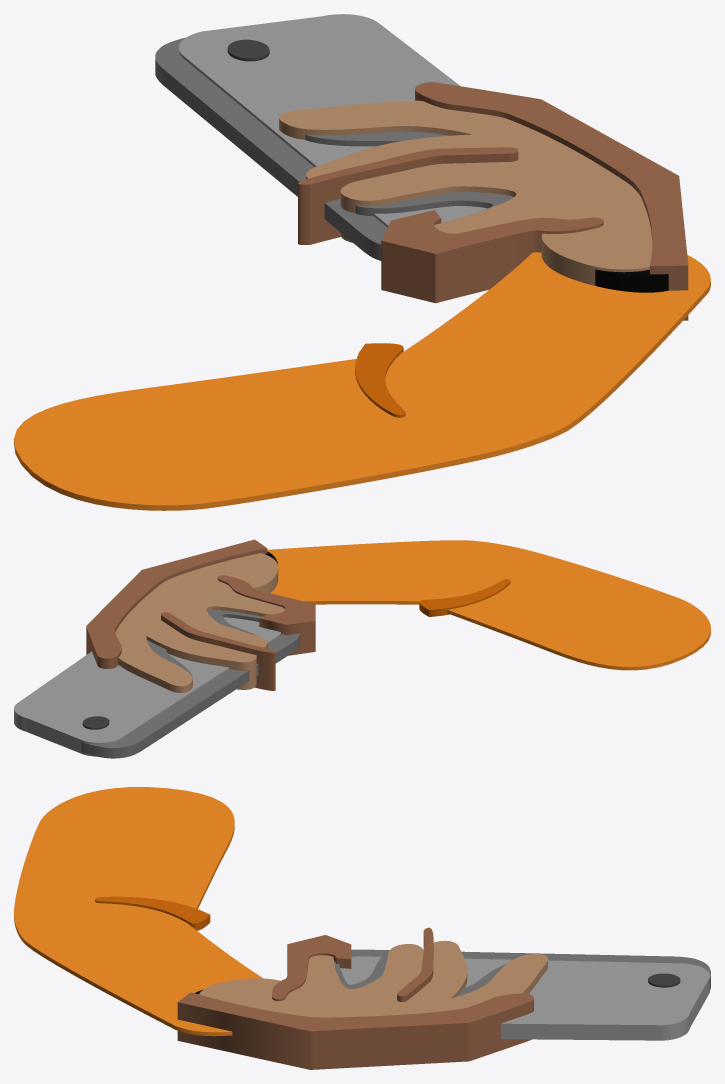
Rendered from emoji_u1f933_1f3fd.glb.
3 renders of one model, top to bottom at view 1: azimuth 30°, elevation 25°; view 2: azimuth 150°, elevation 25°; view 3: azimuth 270°, elevation 25°, orthographic. The views are drawn at different scales.
Visible parts, largest first — view 1: emoji_u1f933_1f3fd; view 2: emoji_u1f933_1f3fd; view 3: emoji_u1f933_1f3fd.
Part boxes in pixels (x1=…): emoji_u1f933_1f3fd: x1=14, y1=14, x2=710, y2=510; emoji_u1f933_1f3fd: x1=14, y1=539, x2=710, y2=758; emoji_u1f933_1f3fd: x1=14, y1=787, x2=710, y2=1069.
Bounding box in the file's own units: 0.0291 × 0.0022 × 0.0327.
